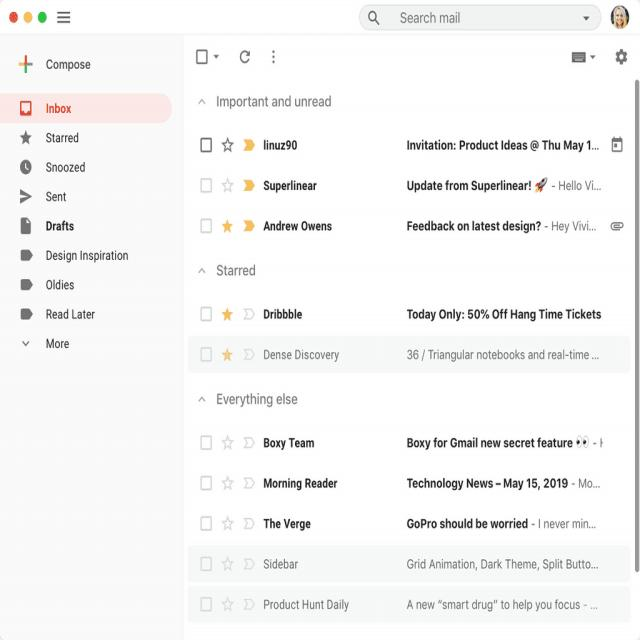button: (185, 162, 636, 206), (185, 208, 634, 248), (186, 295, 633, 335), (188, 425, 634, 465), (188, 504, 633, 542), (185, 124, 634, 161), (188, 588, 630, 625), (188, 337, 634, 373), (188, 546, 630, 582), (188, 468, 632, 502), (2, 48, 182, 85), (0, 151, 174, 181), (0, 181, 174, 211), (0, 240, 174, 270), (0, 271, 174, 301), (0, 301, 174, 330), (0, 211, 173, 240), (1, 94, 173, 123), (0, 330, 174, 358), (0, 123, 173, 151), (634, 78, 640, 573), (566, 46, 602, 70), (610, 44, 632, 68), (607, 132, 627, 157), (234, 46, 256, 68), (53, 7, 76, 28), (610, 5, 629, 30), (607, 215, 627, 236), (240, 472, 259, 494), (239, 432, 258, 453), (265, 46, 283, 68), (219, 472, 236, 495), (239, 216, 258, 236), (239, 134, 257, 155), (240, 344, 258, 365), (240, 175, 258, 195), (240, 305, 258, 325), (240, 514, 258, 534), (240, 554, 258, 574), (219, 345, 236, 366), (219, 514, 237, 533), (240, 595, 257, 614), (219, 305, 235, 325), (220, 554, 236, 574), (220, 432, 235, 453), (220, 135, 236, 154), (220, 596, 236, 614), (367, 8, 382, 27), (220, 176, 235, 194), (220, 217, 235, 235), (36, 9, 50, 27), (21, 9, 35, 27), (7, 9, 20, 27), (580, 12, 594, 24), (210, 50, 222, 64)
field: (359, 4, 601, 30), (200, 138, 212, 152), (200, 347, 212, 361), (201, 436, 212, 450), (201, 597, 212, 611), (201, 179, 212, 192), (201, 517, 212, 530), (201, 557, 212, 570), (202, 307, 212, 320), (202, 477, 212, 490), (197, 50, 207, 63), (202, 220, 212, 232)
